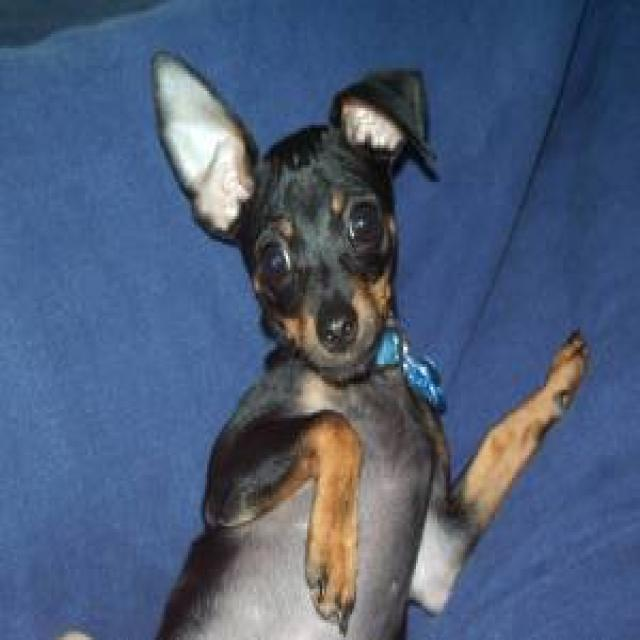dog-miniature_pinscher: (134, 46, 591, 634)
